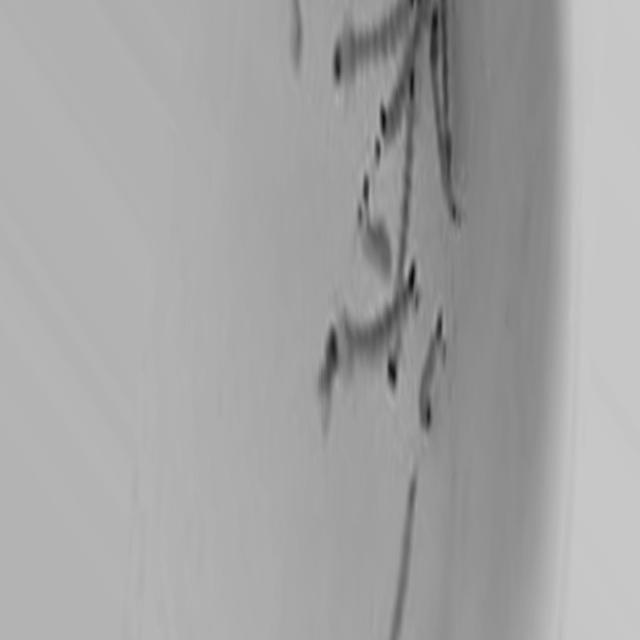larvas: (316, 262, 426, 389), (381, 86, 421, 385), (374, 4, 430, 145), (325, 3, 404, 86), (392, 473, 422, 640), (352, 189, 391, 271), (419, 315, 445, 423), (442, 0, 456, 165), (431, 2, 442, 176)
